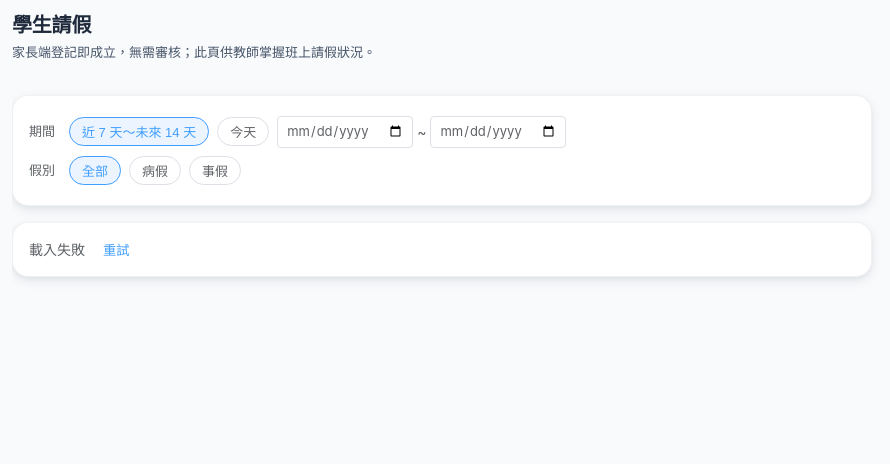
Scenario: PortalStudentLeavesView › 載入失敗顯示錯誤與重試，不得顯示空狀態
Step 1. Click the button with test id "retry" → {"x": 116, "y": 249}, box x1=97 y1=239 x2=136 y2=260
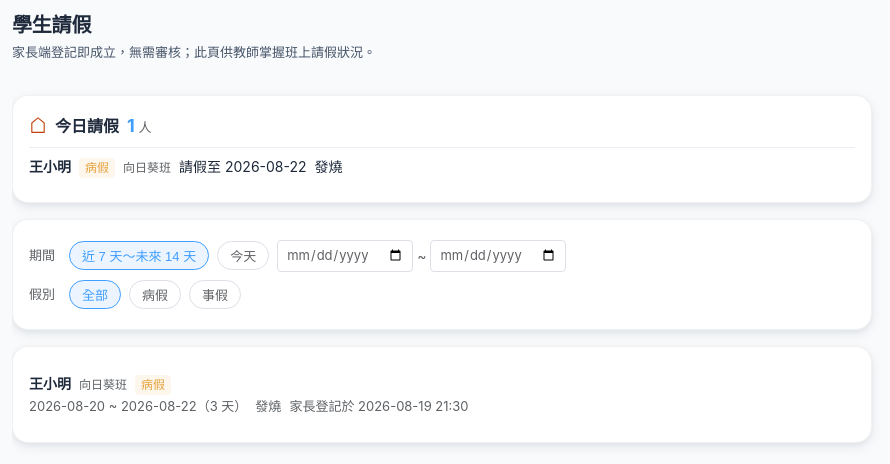
Check: the text "王小明" is shown, box x1=29 y1=156 x2=71 y2=177
